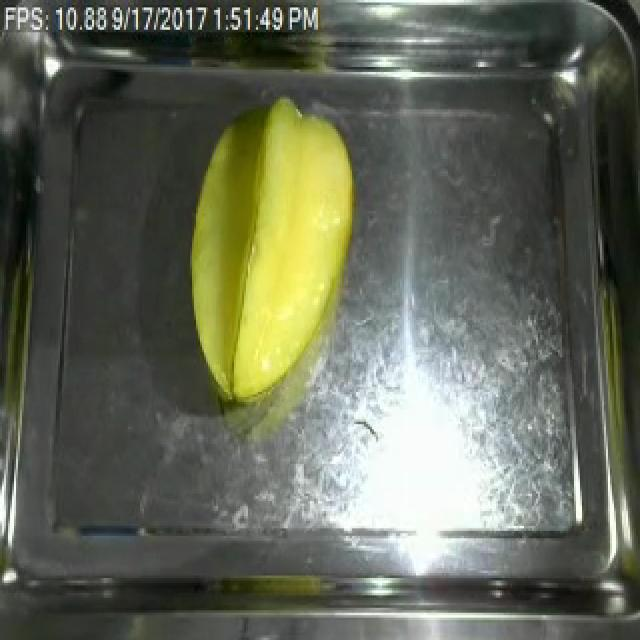fruit: (174, 87, 366, 417)
